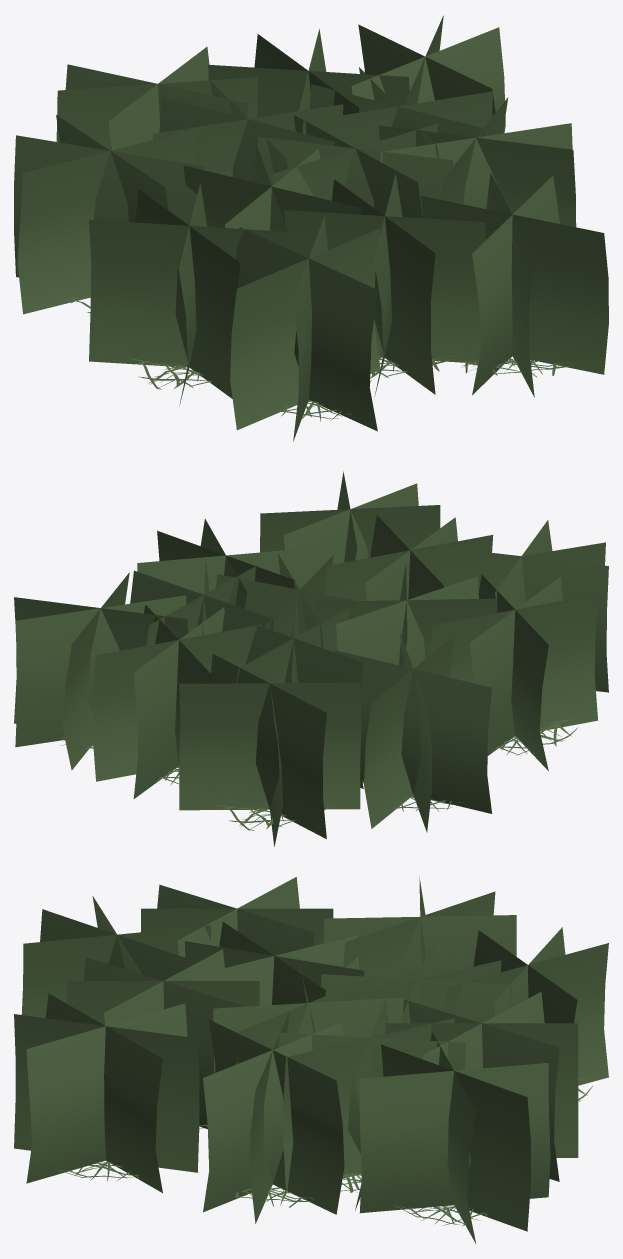
Rendered from grassShortGroup.fbx.
3 renders of one model, top to bottom at view 1: azimuth 30°, elevation 25°; view 2: azimuth 150°, elevation 25°; view 3: azimuth 270°, elevation 25°, orthographic. The views are drawn at different scales.
Parts seen in each view (by area): view 1: grassShort_plane40; view 2: grassShort_plane40; view 3: grassShort_plane40.
Part boxes in pixels (box(x1,y1,x2,y2)): grassShort_plane40: box(14, 15, 608, 441); grassShort_plane40: box(14, 471, 608, 846); grassShort_plane40: box(14, 876, 608, 1243).
Bounding box in the file's own units: 210 × 56.11 × 225.
2 materials, 2 textured.
